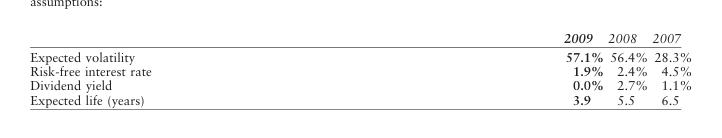table: (29, 29, 691, 106)
table column: (29, 29, 356, 106), (356, 29, 605, 106), (605, 29, 649, 106), (649, 29, 691, 106)
table column header: (29, 29, 691, 46)
table row: (29, 29, 691, 46), (29, 46, 691, 63), (29, 91, 691, 106), (29, 63, 691, 77), (29, 77, 691, 91)
